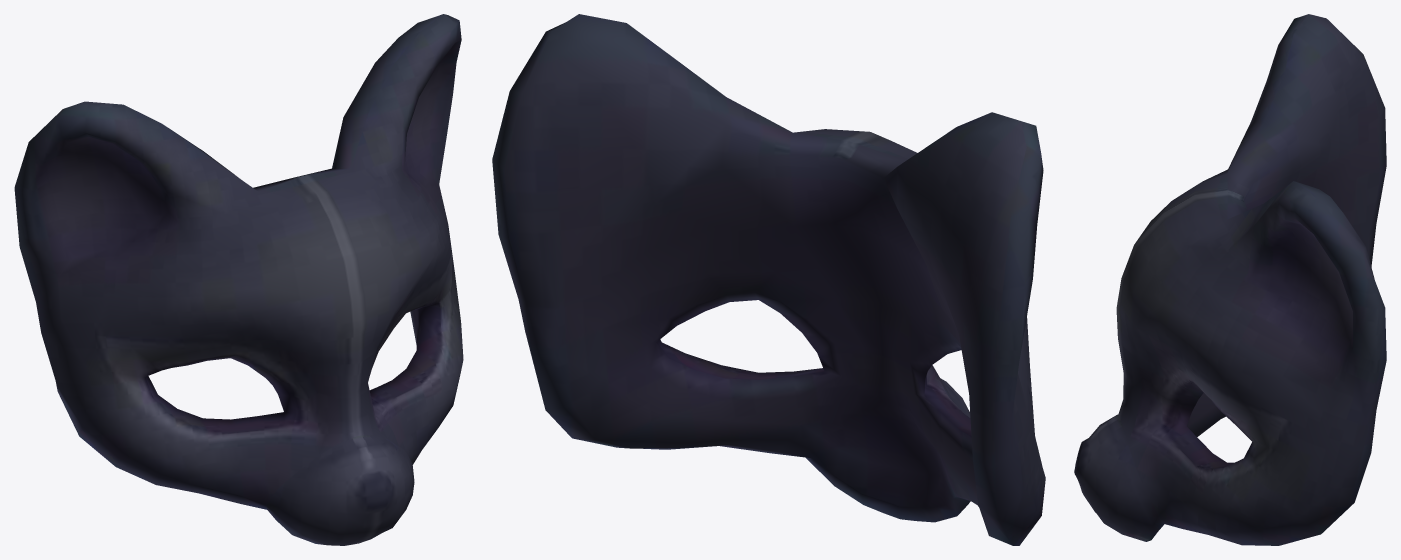
3 views of the same model, side by side, from view 1: azimuth 30°, elevation 25°; view 2: azimuth 150°, elevation 25°; view 3: azimuth 270°, elevation 25° (orthographic). The views are drawn at different scales.
Visible parts, largest first — view 1: Wolf3D_Facewear.004; view 2: Wolf3D_Facewear.004; view 3: Wolf3D_Facewear.004.
Boxes of the visible parts, <box> form: Wolf3D_Facewear.004: <box>14,14,463,545</box>; Wolf3D_Facewear.004: <box>492,14,1045,545</box>; Wolf3D_Facewear.004: <box>1074,14,1386,545</box>.
Size of the model in its own units: 0.1918 by 0.1807 by 0.1189.
1 material, 1 textured.
